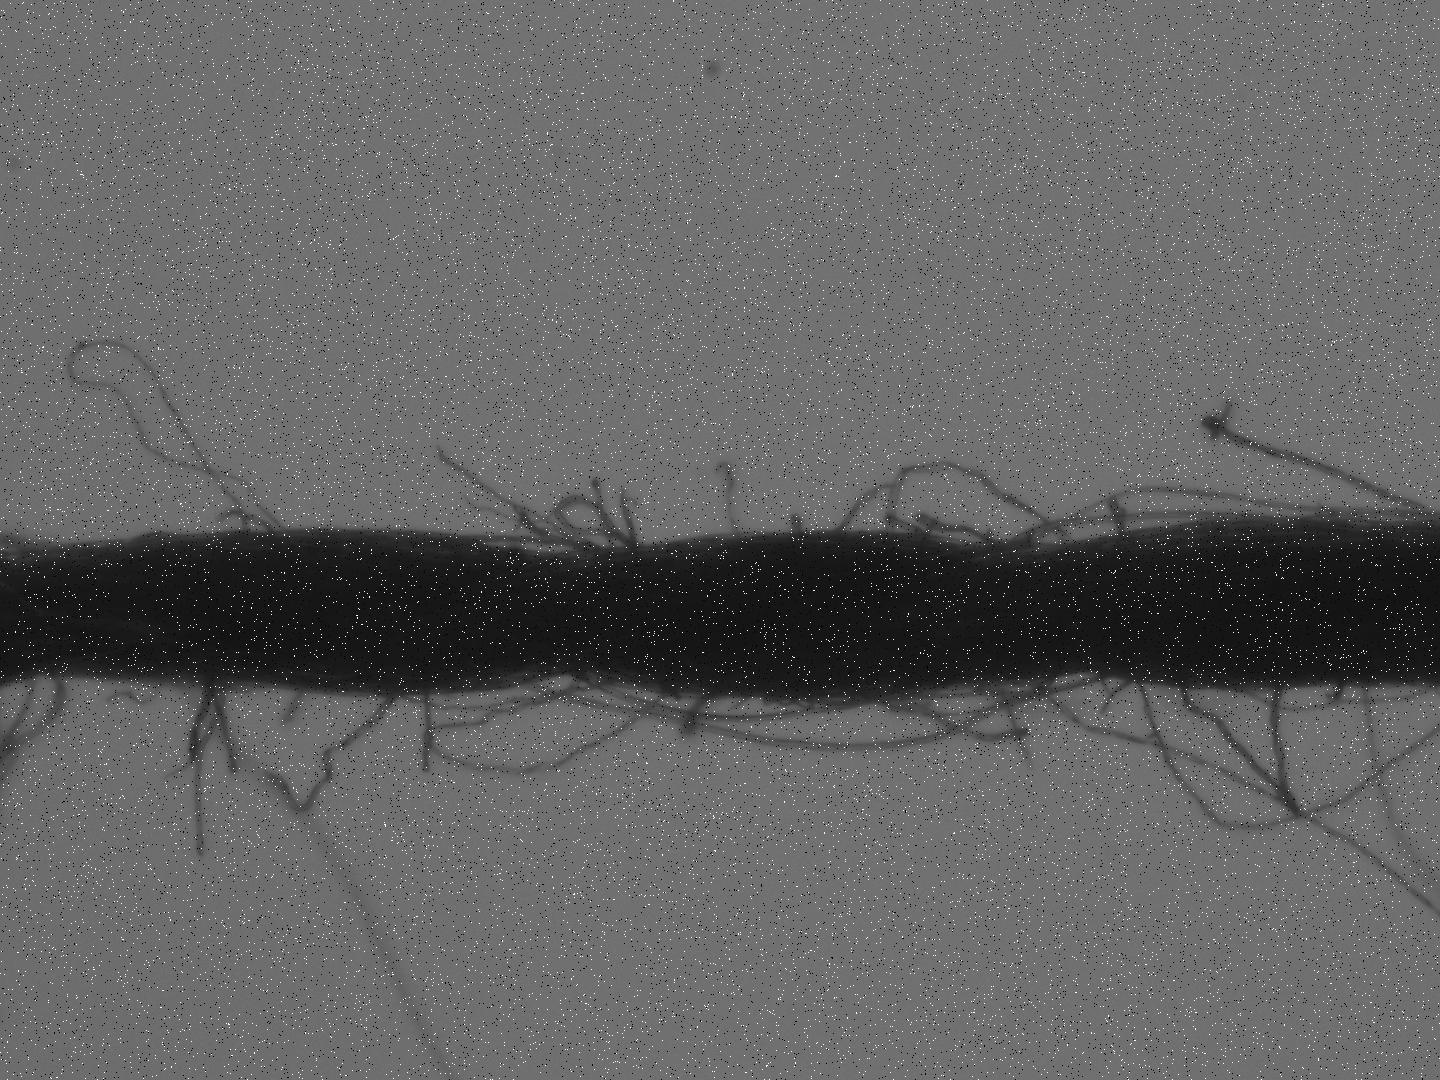loop_fiber: (53, 334, 297, 548), (528, 675, 1048, 760), (413, 660, 687, 781), (827, 456, 1084, 556), (1180, 674, 1305, 826), (593, 668, 858, 724), (1023, 511, 1262, 559), (544, 484, 652, 548), (980, 677, 1064, 701)
protruding_fiber: (712, 457, 746, 542), (414, 689, 439, 781)
